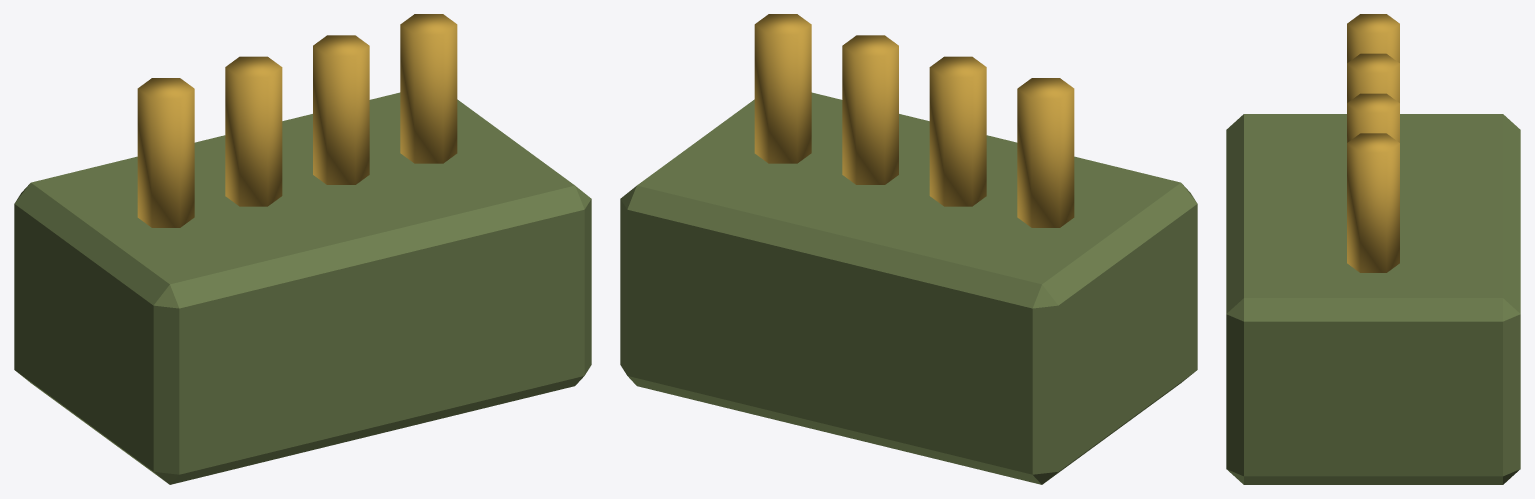
File: ammo.glb
The picture shows the model from 3 angles, left to right: view 1: azimuth 30°, elevation 25°; view 2: azimuth 150°, elevation 25°; view 3: azimuth 270°, elevation 25°; orthographic projection. The views are drawn at different scales.
Parts seen in each view (by area): view 1: Item; view 2: Item; view 3: Item.
Part boxes in pixels (x1=…): Item: x1=14, y1=14, x2=591, y2=484; Item: x1=620, y1=14, x2=1197, y2=484; Item: x1=1226, y1=14, x2=1520, y2=484.
Size of the model in its own units: 0.08 by 0.0575 by 0.05.
